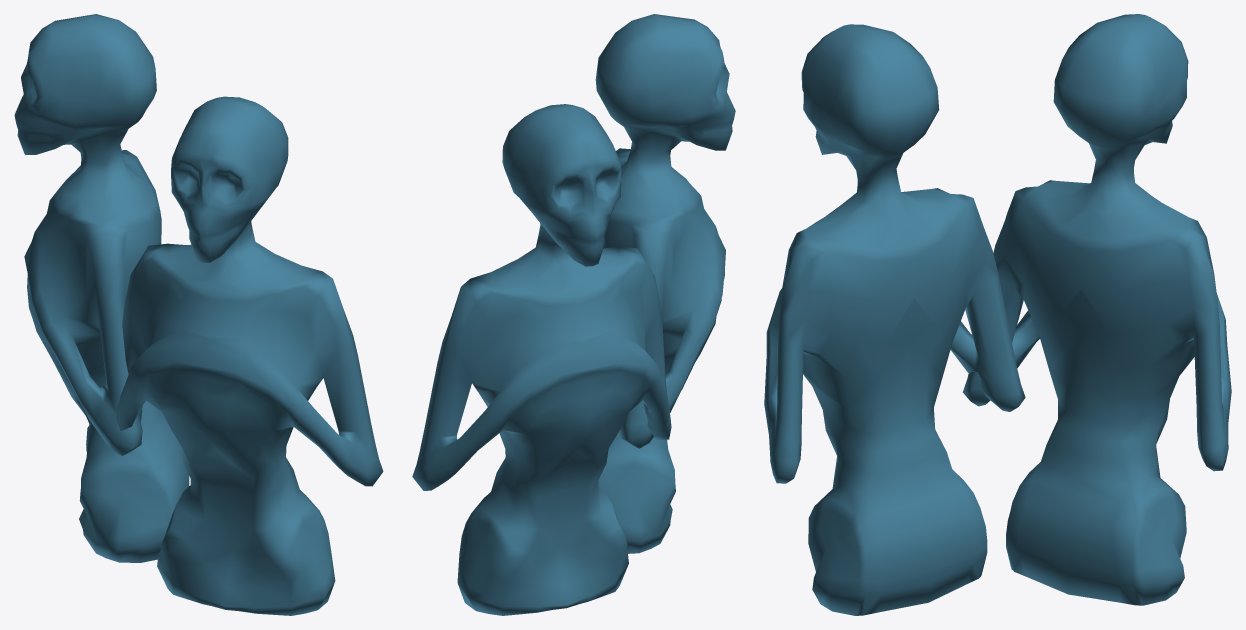
File: Statues_Grp_01B_Lod0.fbx
3 views of the same model, side by side, from view 1: azimuth 30°, elevation 25°; view 2: azimuth 150°, elevation 25°; view 3: azimuth 270°, elevation 25° (orthographic). The views are drawn at different scales.
Parts seen in each view (by area): view 1: Statues_Grp_01B_Lod0; view 2: Statues_Grp_01B_Lod0; view 3: Statues_Grp_01B_Lod0.
Boxes of the visible parts, x1=… form: Statues_Grp_01B_Lod0: x1=14, y1=14, x2=383, y2=615; Statues_Grp_01B_Lod0: x1=412, y1=14, x2=735, y2=615; Statues_Grp_01B_Lod0: x1=764, y1=14, x2=1231, y2=615.
Size of the model in its own units: 89.34 by 213 by 167.
